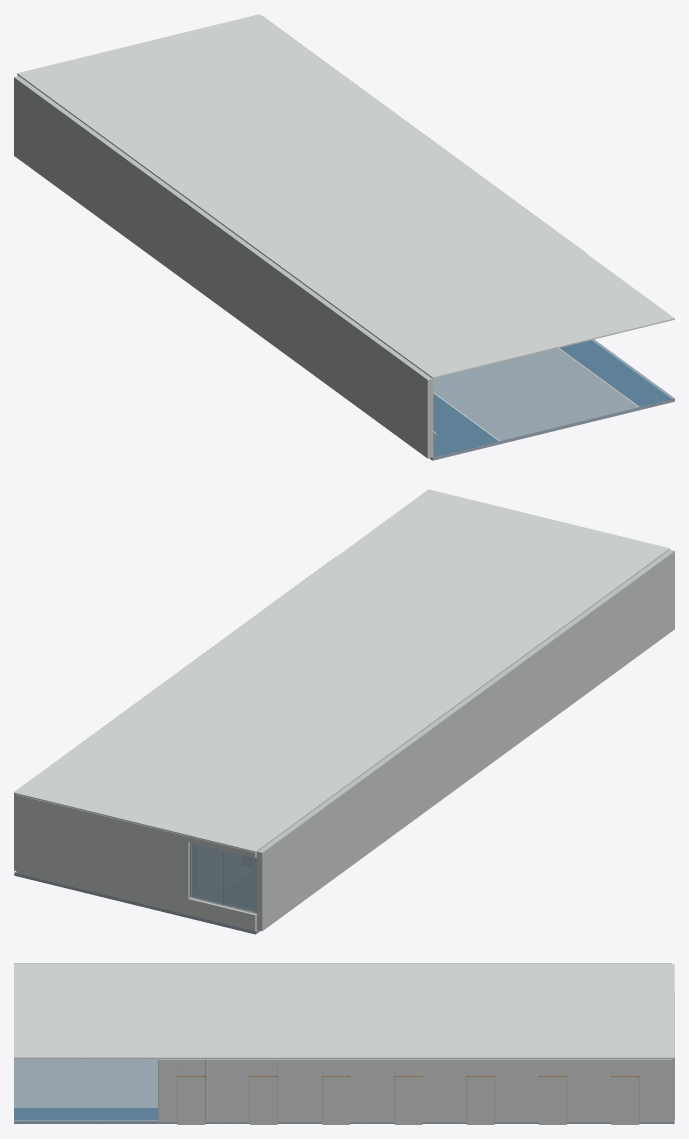
File: nurse-station-warm-v1.glb
3 renders of one model, top to bottom at view 1: azimuth 30°, elevation 25°; view 2: azimuth 150°, elevation 25°; view 3: azimuth 270°, elevation 25°, orthographic. The views are drawn at different scales.
Visible parts, largest first — view 1: Architecture_Static; view 2: Architecture_Static; view 3: Architecture_Static.
Part boxes in pixels (x1,y1,x2,y2): Architecture_Static: (14, 14, 674, 460); Architecture_Static: (14, 489, 674, 934); Architecture_Static: (14, 963, 674, 1124).
Size of the model in its own units: 10.74 by 3.33 by 30.17.
28 materials, 17 textured.
